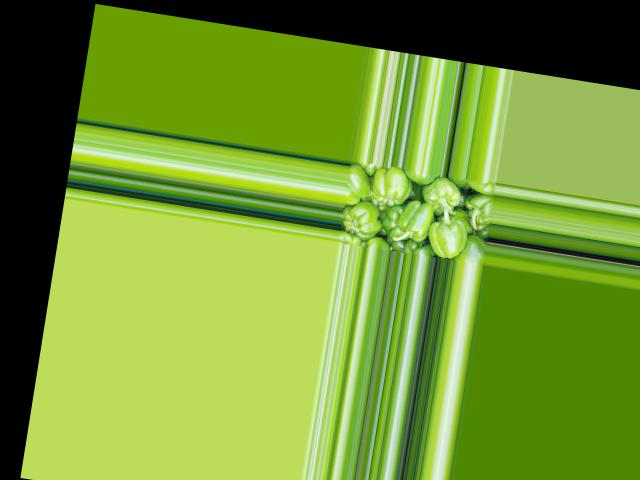bell_pepper: (451, 233, 488, 265)
